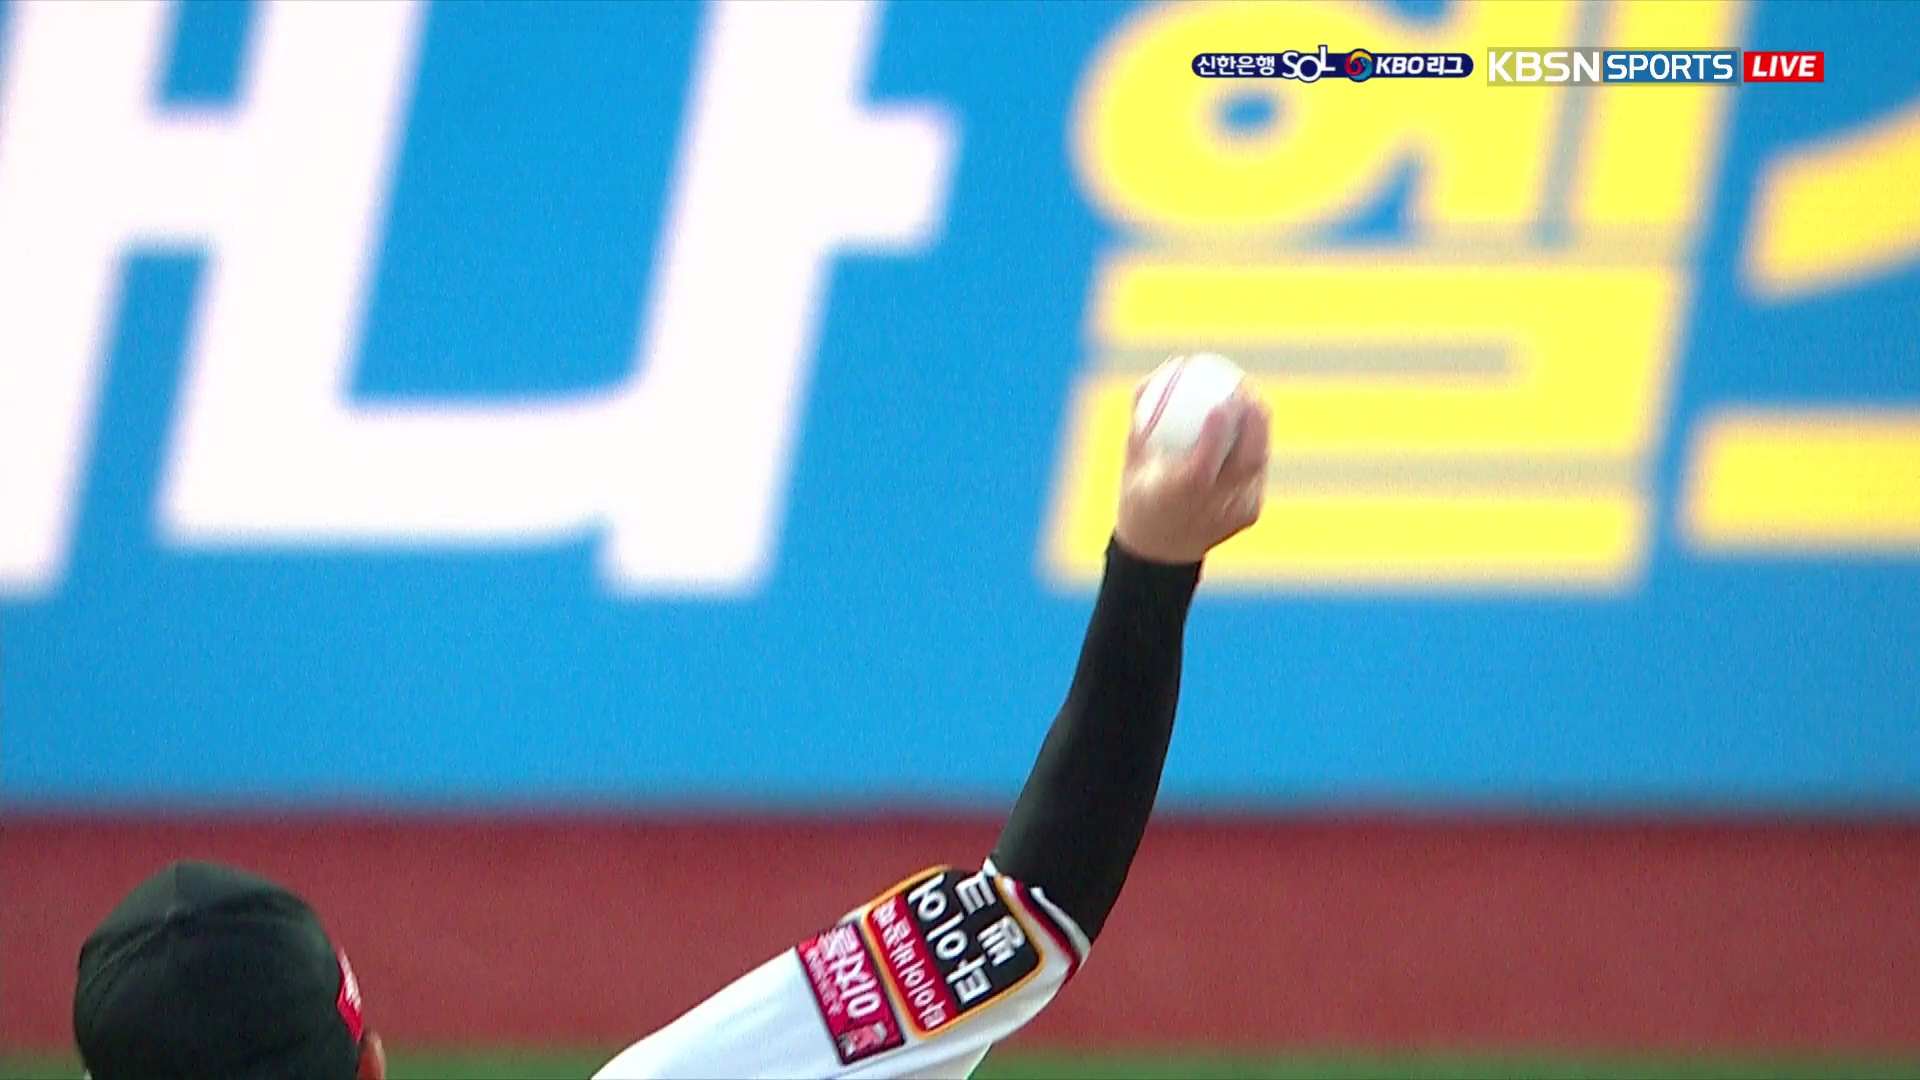zoomin_hand: (953, 345, 1278, 1021)
